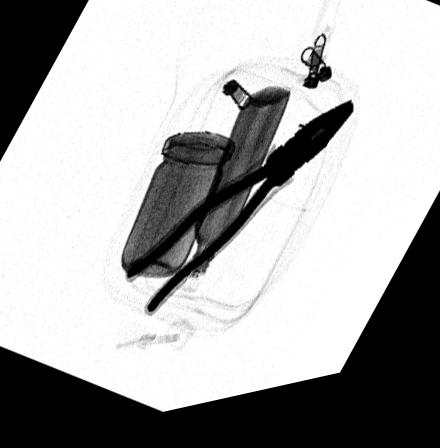Pliers: (125, 114, 355, 318)
